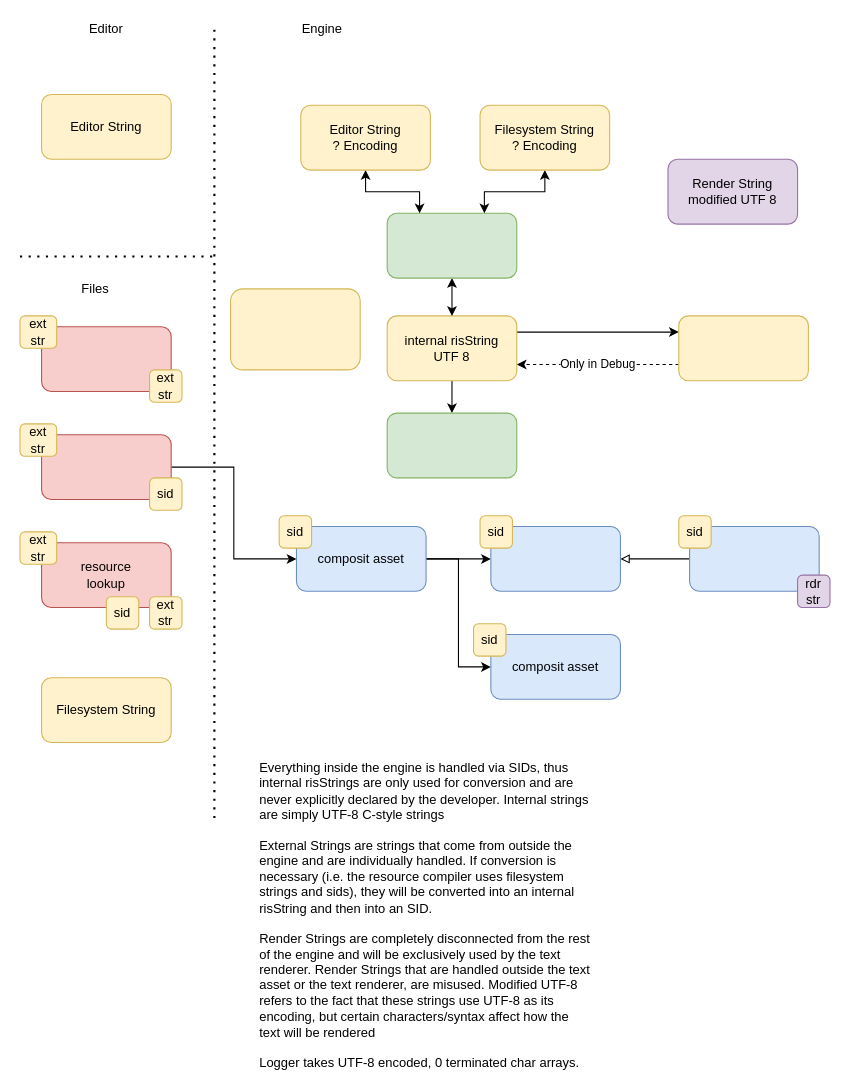
Image size: 849x1090. Some labels were removed from this diagram. The box of each missing label's shape, as (x1, y1, x2, y2) in pixels:
asset: (490, 525, 620, 591)
Converter: (386, 212, 517, 278)
Logger: (386, 412, 517, 478)
resource package: (40, 434, 171, 500)
resource redirect: (40, 326, 171, 392)
sid U32: (678, 315, 808, 381)
struct risString char[]: data U32: data_size U32: head: (230, 288, 360, 370)
Text Asset: (688, 525, 819, 591)
